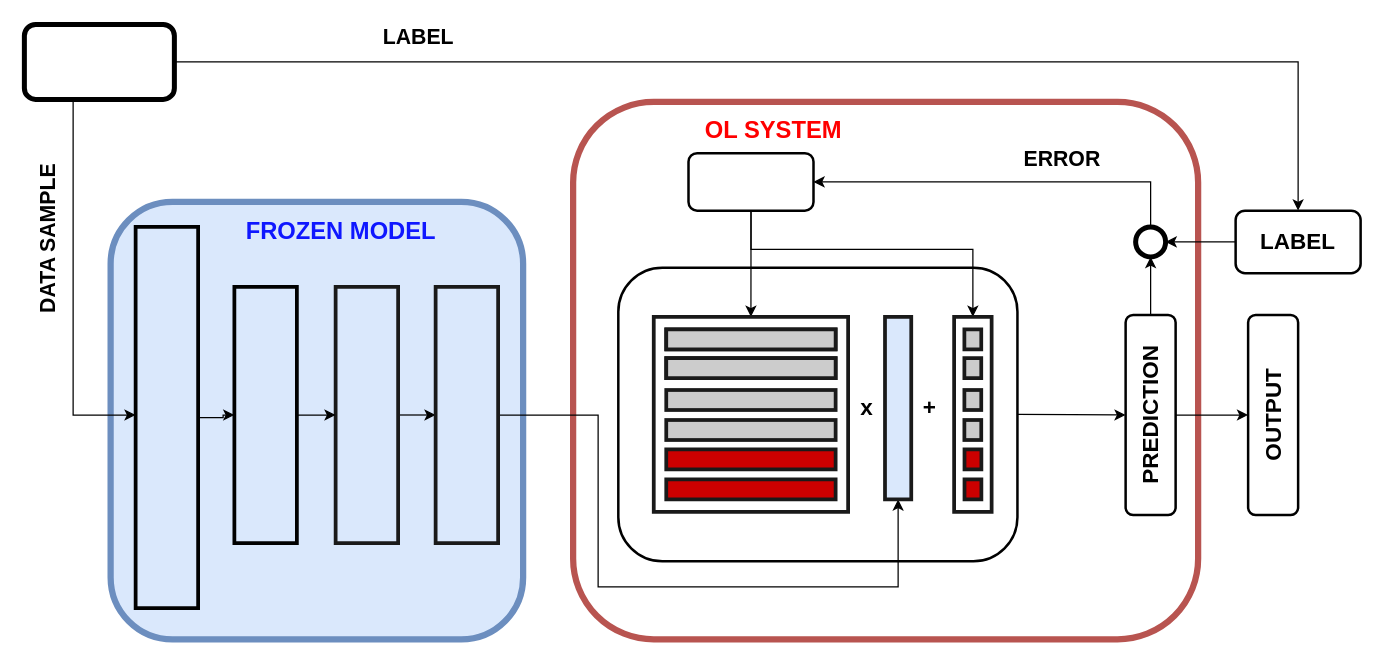
Some shapes in this 1383 by 664 pixel diagram are drawn without their labels. Each missing label, with the centre of its shape:
DATASET: the point at 98,61
UPDATE: the point at 750,181
